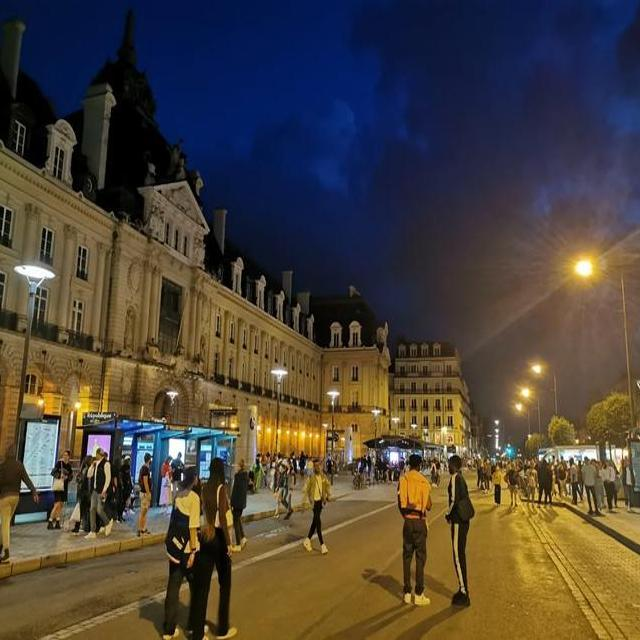curb: (528, 519, 626, 639), (0, 532, 164, 581), (555, 502, 639, 555), (247, 511, 274, 521)
